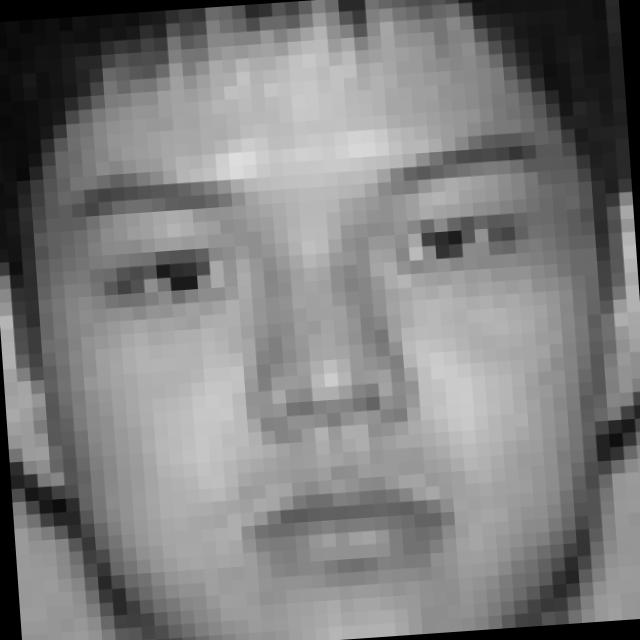neutral: (52, 130, 566, 611)
